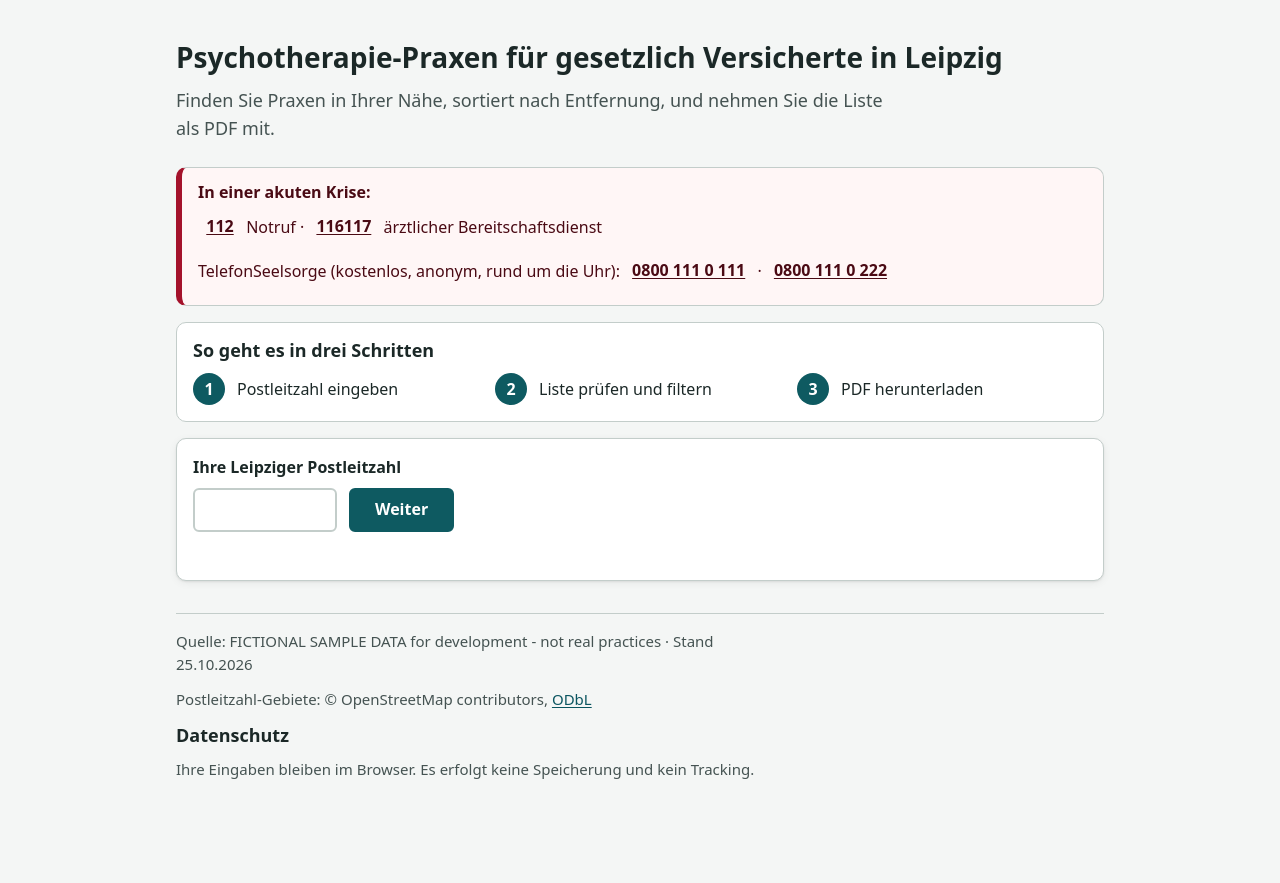
Test case: result list › highlights absent and inactive practices
Type "04318" into the field labelled "Ihre Leipziger Postleitzahl" at (265,510), box [193, 488, 337, 532]
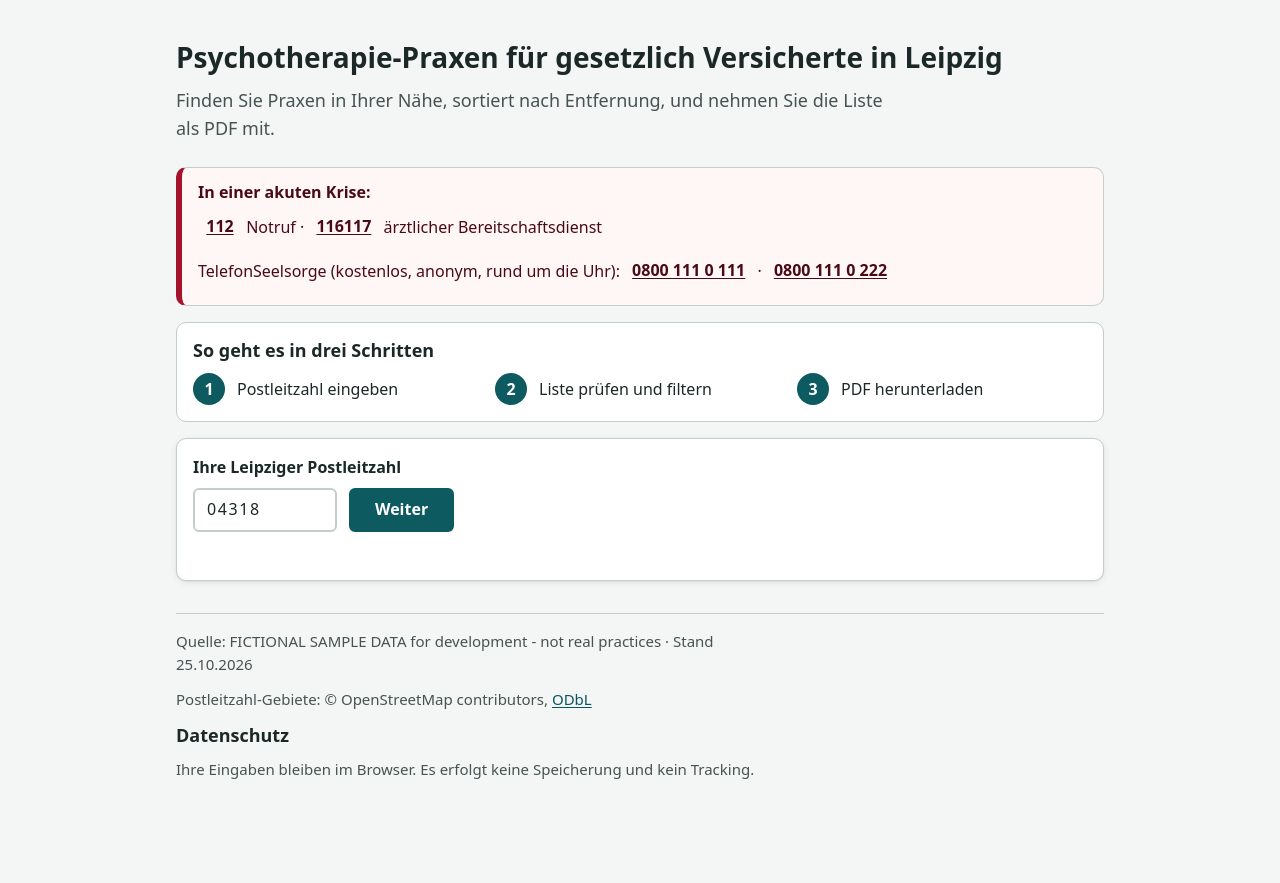
Click the button "Weiter" at (402,510), box [349, 488, 454, 532]
(page scrolled)
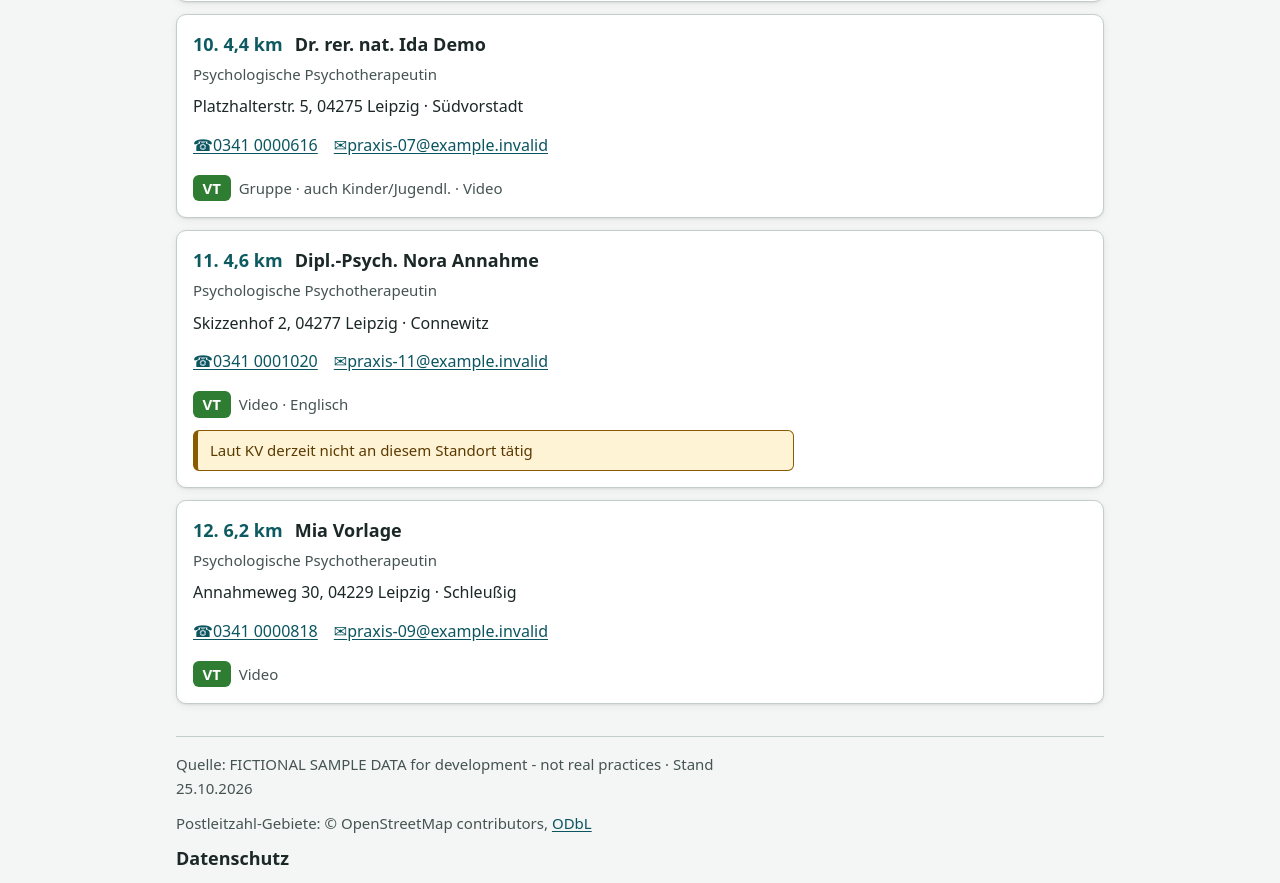
Expected: the text "Laut KV derzeit nicht an diesem Standort tätig" is shown, [193, 430, 794, 471]
